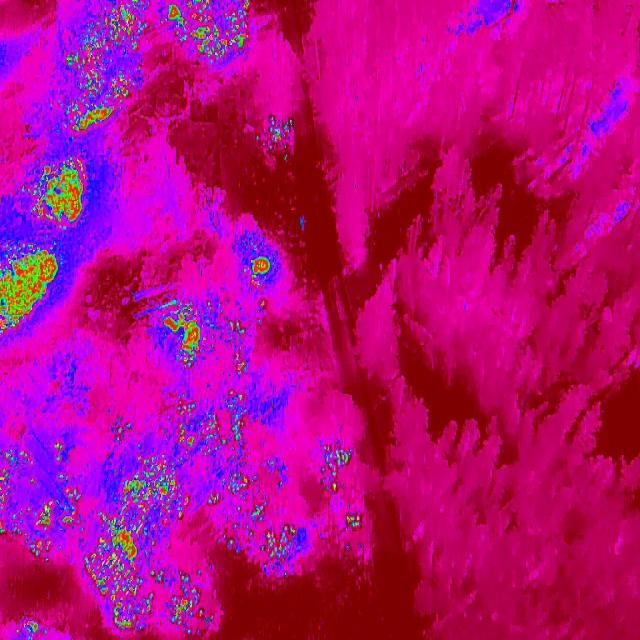fire: (66, 0, 152, 132), (176, 393, 261, 517), (0, 437, 81, 565), (80, 516, 164, 634), (157, 0, 258, 68), (0, 245, 59, 343), (111, 454, 192, 525), (17, 153, 86, 231), (222, 516, 296, 576), (162, 300, 217, 370), (225, 299, 271, 376), (165, 568, 213, 632), (314, 440, 354, 492), (263, 116, 297, 160), (240, 251, 278, 285), (13, 616, 47, 640), (342, 507, 365, 535)
